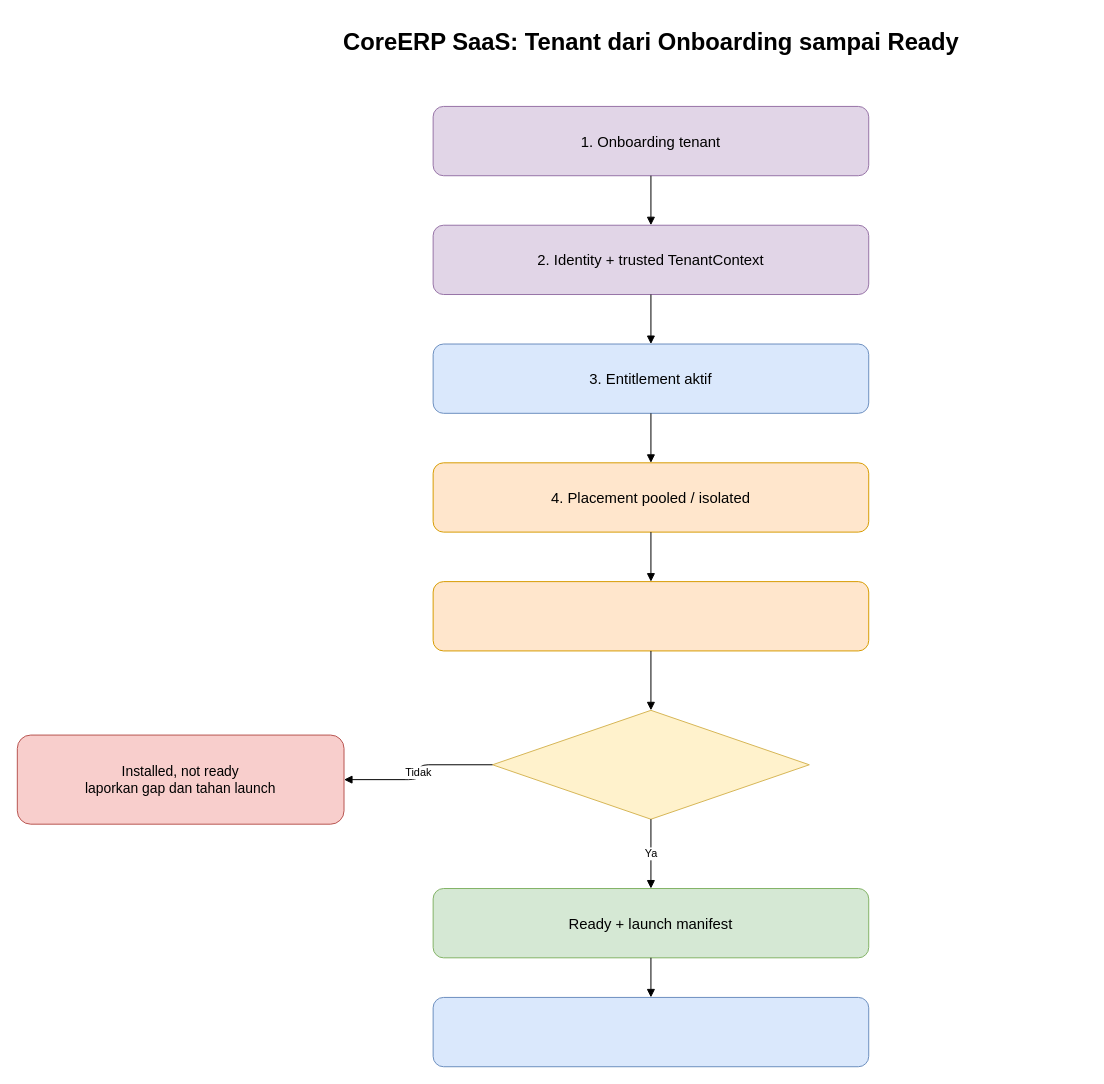
Some shapes in this 1104 by 1084 pixel diagram are drawn without their labels. Each missing label, with the box of its shape:
5. Install release + run migration: (432, 581, 869, 651)
Readiness checks lulus?: (492, 709, 809, 819)
Request app memakai TenantContext dan policy scope yang berlaku: (432, 996, 869, 1067)
